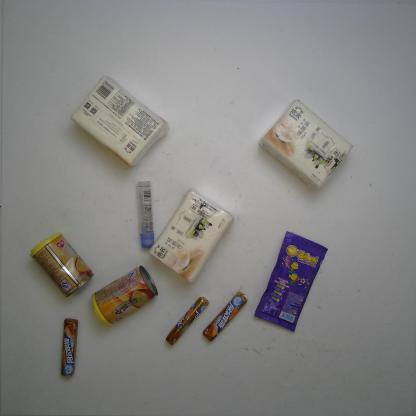Candy: (254, 231, 328, 332), (202, 292, 247, 341), (166, 297, 209, 346), (61, 319, 78, 377)
Canned Food: (30, 232, 93, 298), (90, 266, 158, 323)
Stationery: (135, 182, 155, 248)
Tissue: (70, 74, 169, 168), (260, 99, 354, 188), (149, 189, 233, 283)
